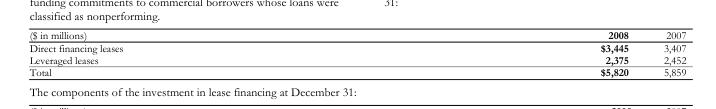table: (28, 28, 685, 78)
table column: (28, 28, 361, 78), (361, 28, 645, 78), (645, 28, 685, 78)
table column header: (28, 28, 685, 41)
table row: (28, 28, 685, 41), (28, 65, 685, 78), (28, 41, 685, 53), (28, 53, 685, 65)
